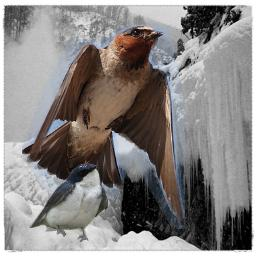Swallow: (22, 25, 185, 229), (29, 163, 109, 243)
